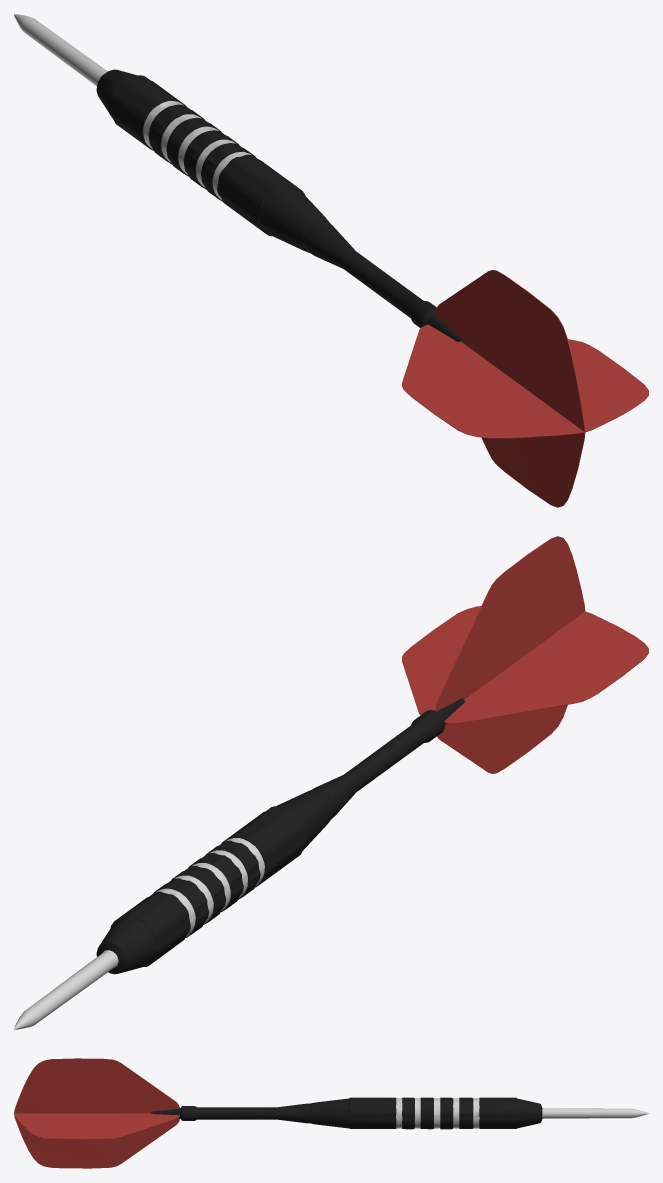
Rendered from dart.glb.
3 renders of one model, top to bottom at view 1: azimuth 30°, elevation 25°; view 2: azimuth 150°, elevation 25°; view 3: azimuth 270°, elevation 25°, orthographic. The views are drawn at different scales.
Parts seen in each view (by area): view 1: dart; view 2: dart; view 3: dart.
Part boxes in pixels (x1,y1,x2,y2): dart: (14,14,648,507); dart: (14,536,648,1029); dart: (14,1058,648,1168).
Bounding box in the file's own units: 0.0472 × 0.0472 × 0.2472.
